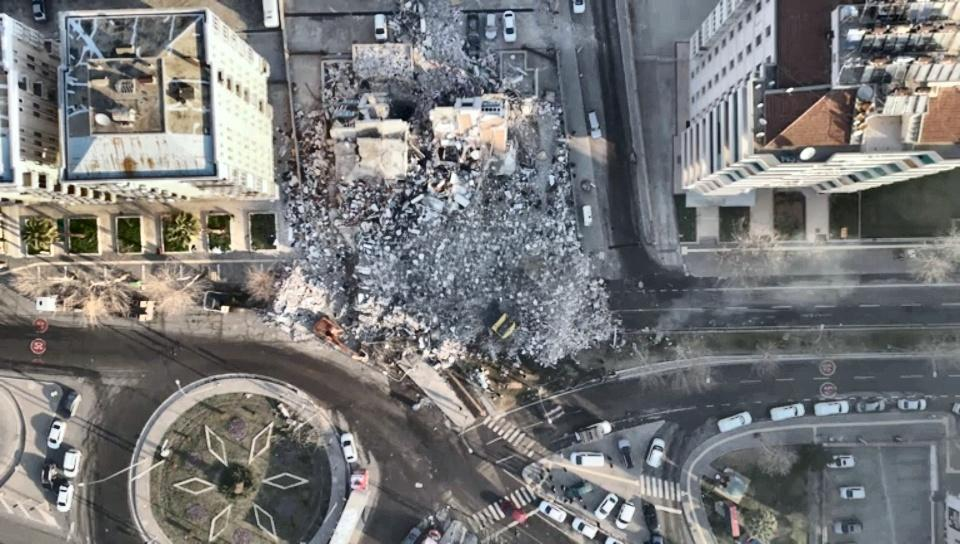kapali: (406, 291, 653, 336)
